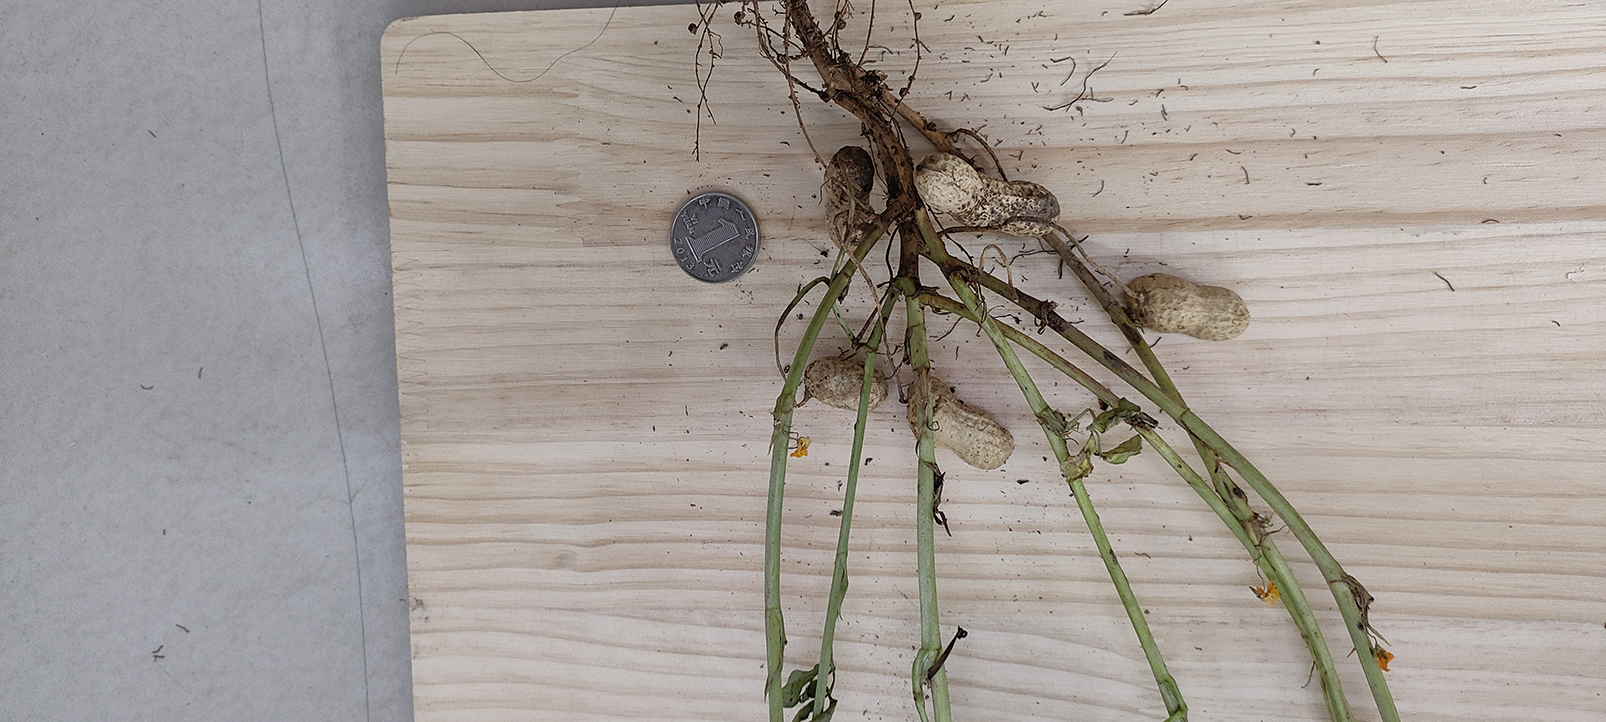h: (912, 151, 1062, 239), (907, 379, 1014, 470), (1127, 273, 1252, 342)
l: (821, 145, 875, 250), (805, 359, 887, 411)
